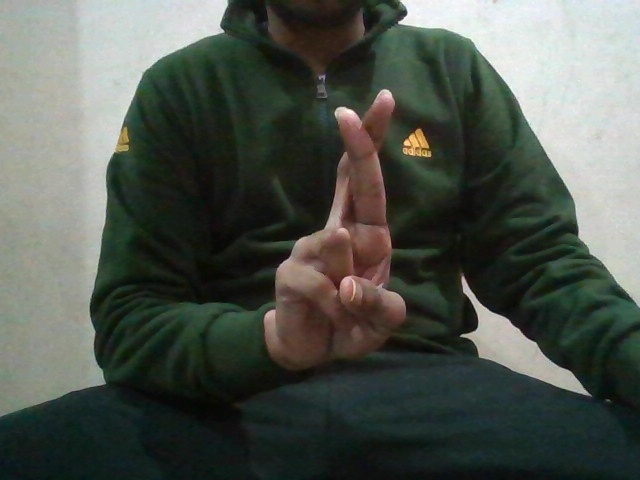R: (254, 78, 442, 381)
